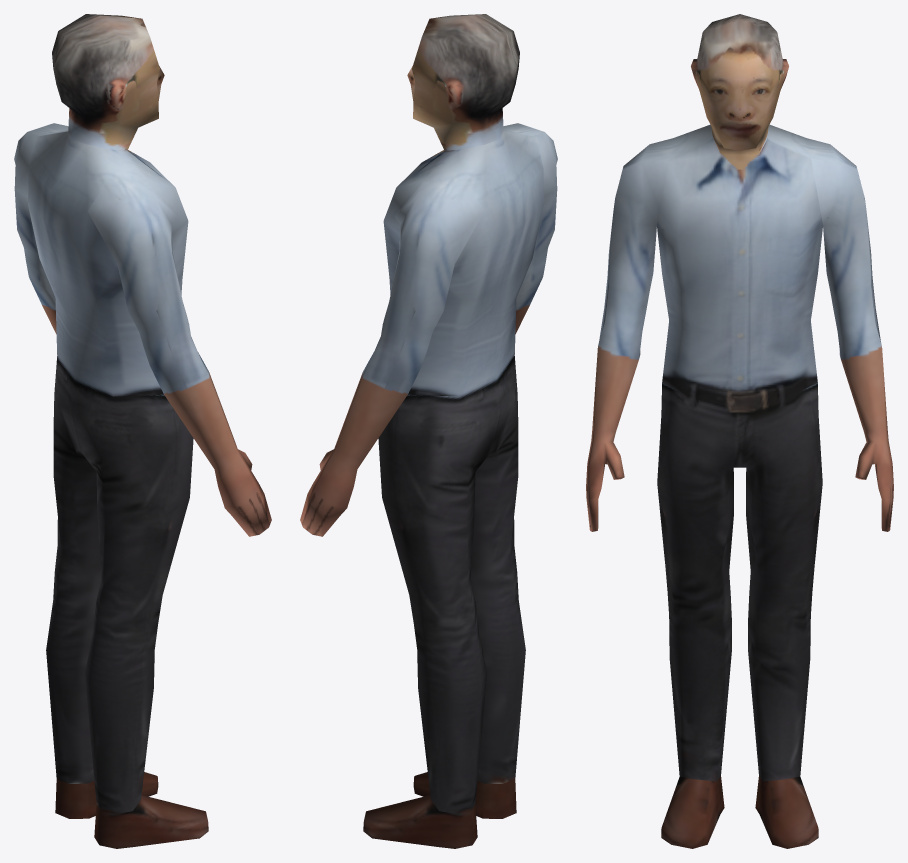
Rendered from old_prof2.fbx.
The picture shows the model from 3 angles, left to right: view 1: azimuth 30°, elevation 25°; view 2: azimuth 150°, elevation 25°; view 3: azimuth 270°, elevation 25°; orthographic projection.
Parts seen in each view (by area): view 1: Character_29; view 2: Character_29; view 3: Character_29.
Part boxes in pixels (bbox=[...]): Character_29: bbox=[14, 14, 271, 848]; Character_29: bbox=[300, 14, 557, 848]; Character_29: bbox=[586, 14, 893, 848].
Bounding box in the file's own units: 85.61 × 438 × 155.
